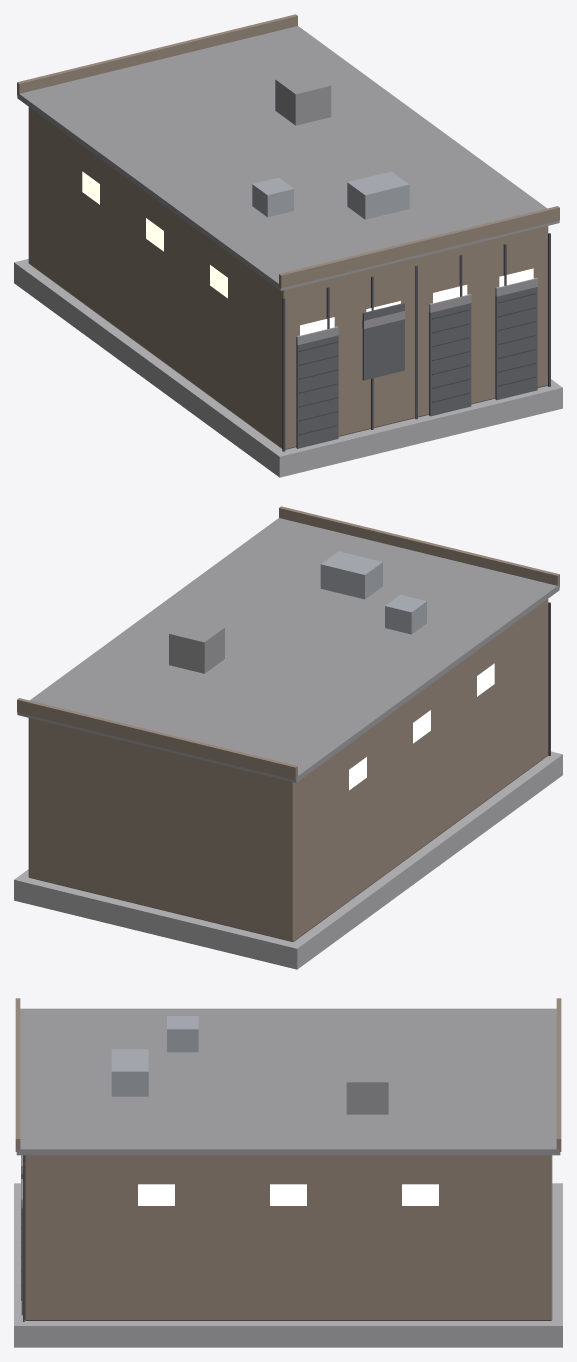
Rendered from bt-d2-warehouse-b.glb.
The picture shows the model from 3 angles, top to bottom: view 1: azimuth 30°, elevation 25°; view 2: azimuth 150°, elevation 25°; view 3: azimuth 270°, elevation 25°; orthographic projection. The views are drawn at different scales.
Parts seen in each view (by area): view 1: bt-d2-warehouse-b_roof, bt-d2-warehouse-b_body, bt-d2-warehouse-b_skirt, bt-d2-warehouse-b_par1, bt-d2-warehouse-b_door3, bt-d2-warehouse-b_door0, bt-d2-warehouse-b_door2, bt-d2-warehouse-b_par-1, bt-d2-warehouse-b_door1, bt-d2-warehouse-b_vent1, bt-d2-warehouse-b_ac, bt-d2-warehouse-b_vent2 (+1 smaller); view 2: bt-d2-warehouse-b_body, bt-d2-warehouse-b_roof, bt-d2-warehouse-b_skirt, bt-d2-warehouse-b_par-1, bt-d2-warehouse-b_par1, bt-d2-warehouse-b_vent1, bt-d2-warehouse-b_ac, bt-d2-warehouse-b_vent2; view 3: bt-d2-warehouse-b_body, bt-d2-warehouse-b_roof, bt-d2-warehouse-b_skirt, bt-d2-warehouse-b_vent1, bt-d2-warehouse-b_ac, bt-d2-warehouse-b_vent2, bt-d2-warehouse-b_par-1, bt-d2-warehouse-b_par1, bt-d2-warehouse-b_win1_0, bt-d2-warehouse-b_win1_1, bt-d2-warehouse-b_win1_2.
Part boxes in pixels (x1,y1,x2,y2): bt-d2-warehouse-b_roof: [17, 26, 559, 290]; bt-d2-warehouse-b_body: [28, 107, 548, 449]; bt-d2-warehouse-b_skirt: [14, 259, 562, 477]; bt-d2-warehouse-b_par1: [279, 206, 559, 288]; bt-d2-warehouse-b_door3: [495, 287, 537, 400]; bt-d2-warehouse-b_door0: [296, 335, 338, 448]; bt-d2-warehouse-b_door2: [429, 303, 471, 416]; bt-d2-warehouse-b_par-1: [17, 14, 297, 95]; bt-d2-warehouse-b_door1: [362, 302, 404, 380]; bt-d2-warehouse-b_vent1: [275, 70, 331, 125]; bt-d2-warehouse-b_ac: [347, 171, 409, 219]; bt-d2-warehouse-b_vent2: [252, 177, 293, 217]; bt-d2-warehouse-b_body: [28, 599, 548, 941]; bt-d2-warehouse-b_roof: [17, 518, 559, 782]; bt-d2-warehouse-b_skirt: [14, 751, 562, 969]; bt-d2-warehouse-b_par-1: [17, 698, 297, 780]; bt-d2-warehouse-b_par1: [279, 506, 559, 586]; bt-d2-warehouse-b_vent1: [169, 619, 224, 673]; bt-d2-warehouse-b_ac: [320, 551, 382, 599]; bt-d2-warehouse-b_vent2: [385, 595, 426, 634]; bt-d2-warehouse-b_body: [24, 1155, 552, 1320]; bt-d2-warehouse-b_roof: [16, 1008, 560, 1155]; bt-d2-warehouse-b_skirt: [14, 1183, 562, 1347]; bt-d2-warehouse-b_vent1: [346, 1064, 388, 1114]; bt-d2-warehouse-b_ac: [111, 1049, 148, 1096]; bt-d2-warehouse-b_vent2: [167, 1016, 198, 1052]; bt-d2-warehouse-b_par-1: [556, 998, 561, 1151]; bt-d2-warehouse-b_par1: [15, 998, 20, 1151]; bt-d2-warehouse-b_win1_0: [402, 1184, 438, 1205]; bt-d2-warehouse-b_win1_1: [270, 1184, 306, 1205]; bt-d2-warehouse-b_win1_2: [138, 1184, 174, 1205].
Bounding box in the file's own units: 12.8 × 9.6 × 20.8.
